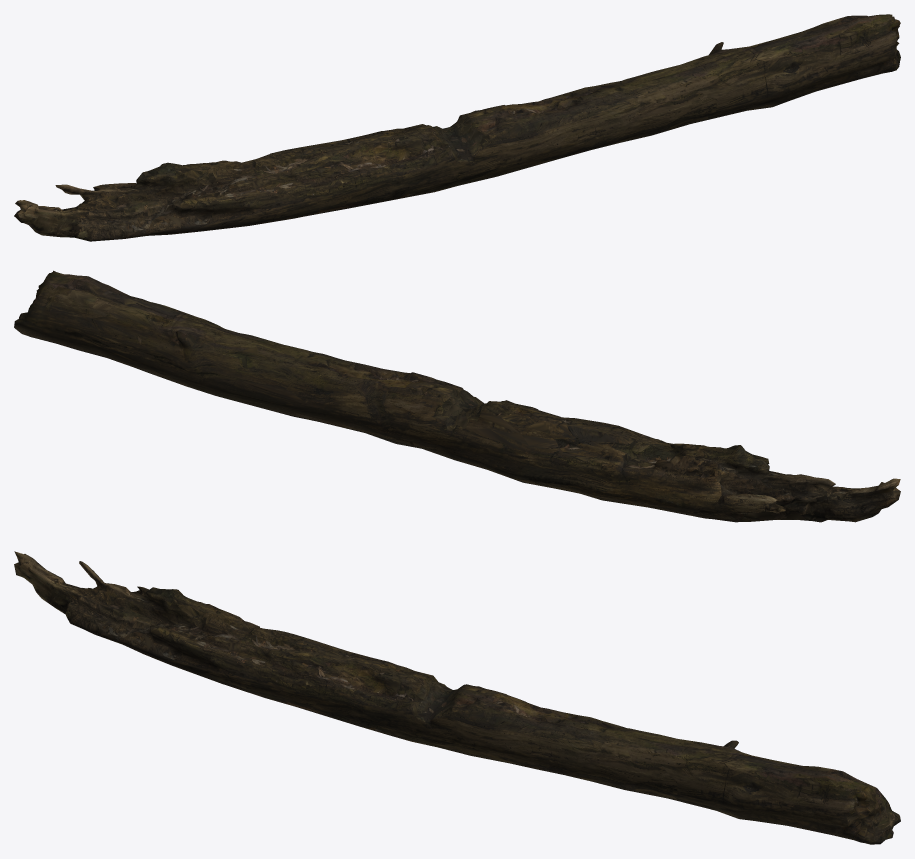
Rendered from pine_deadlog.glb.
The picture shows the model from 3 angles, top to bottom: view 1: azimuth 30°, elevation 25°; view 2: azimuth 150°, elevation 25°; view 3: azimuth 330°, elevation 25°; orthographic projection.
Visible parts, largest first — view 1: pine_deadlog; view 2: pine_deadlog; view 3: pine_deadlog.
Part boxes in pixels (x1,y1,x2,y2): pine_deadlog: [14, 14, 900, 241]; pine_deadlog: [14, 270, 900, 522]; pine_deadlog: [14, 551, 900, 844].
Size of the model in its own units: 5.13 by 0.4871 by 0.5059.
1 material, 1 textured.
